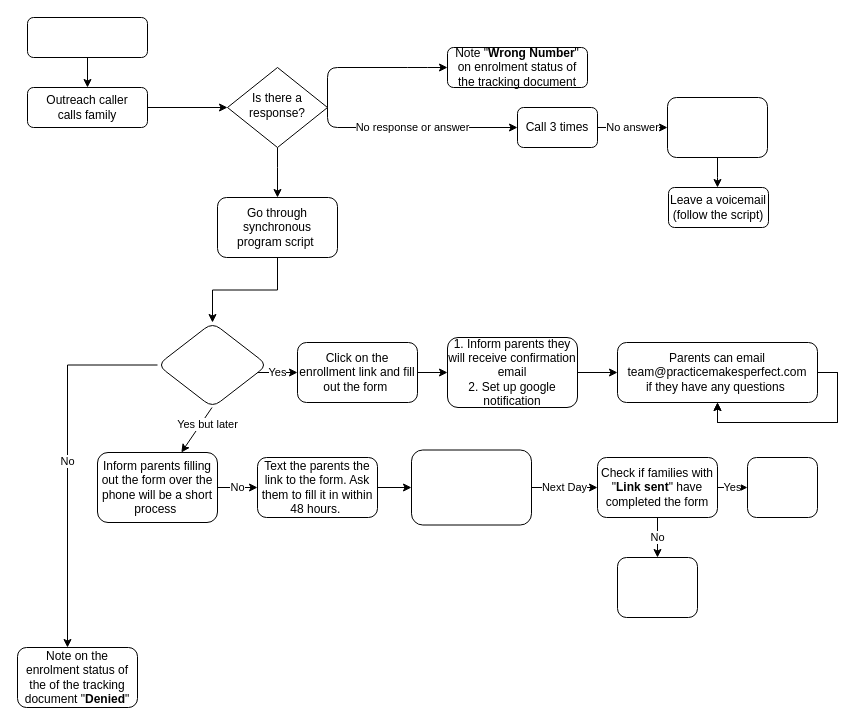
This 863x725 diagram has some shape labels left out. Here are the shapes that lost their labels. From the top down, the box of each, then its label:
(26, 16, 148, 58): Outreach caller sends introductory text
(666, 96, 768, 158): Note " Fail to contact " on tracking document
(156, 322, 268, 408): Do they want to enroll?
(410, 449, 532, 525): Make note on the enrolment status of the tracking document " Link sent "
(746, 456, 818, 518): Change enrolment status to complete
(616, 556, 698, 618): Call the Family again. Stop at 2 attempts
